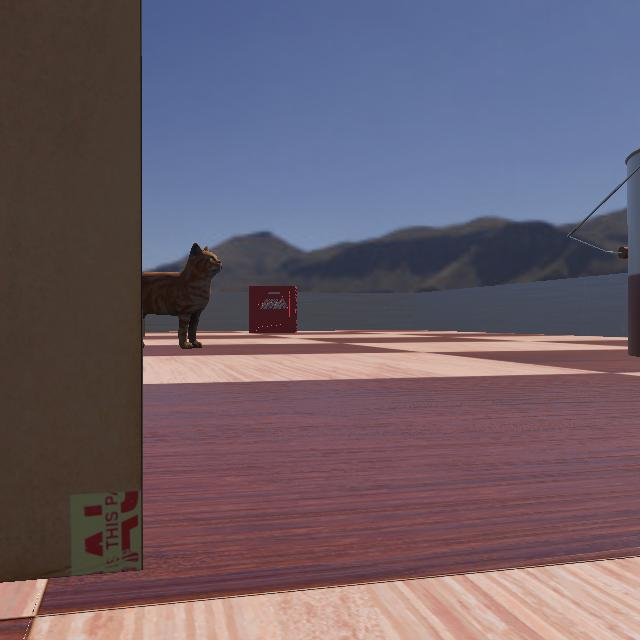cardboard-box: (1, 1, 240, 640), (1, 1, 240, 640)
cat: (51, 240, 229, 350), (51, 240, 229, 350), (51, 240, 229, 350), (51, 240, 229, 350)
paint-bucket: (544, 114, 640, 366), (544, 114, 640, 366), (544, 114, 640, 366)
plastic-crate: (248, 286, 296, 332)
